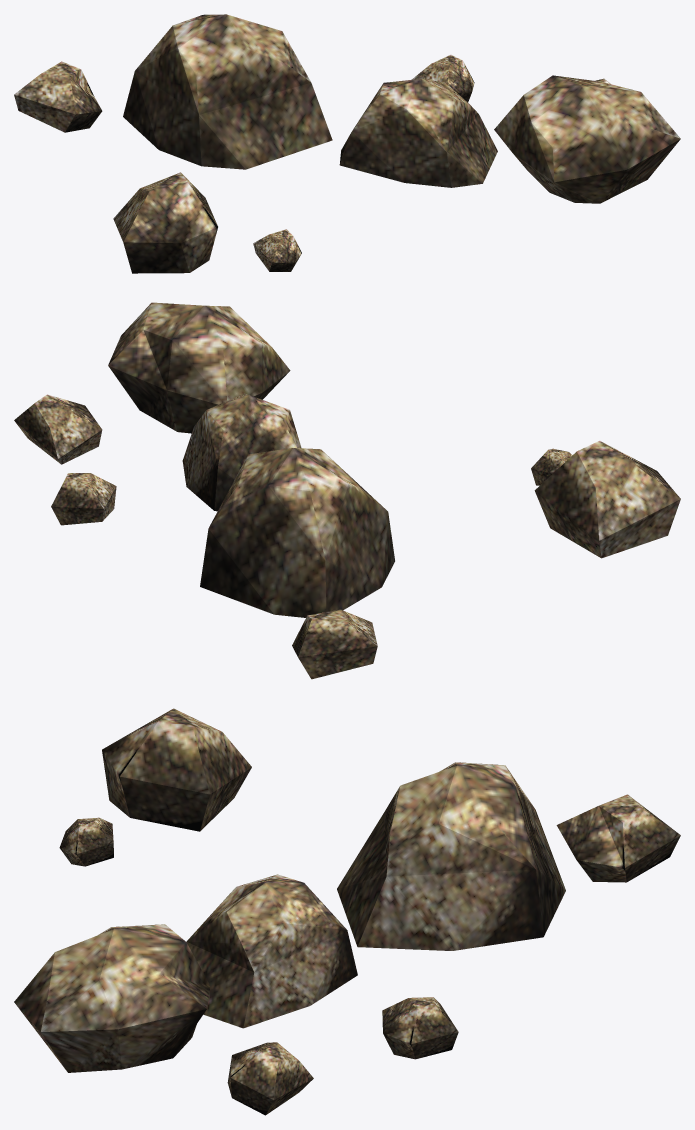
File: rock_015.dae
The picture shows the model from 3 angles, top to bottom: view 1: azimuth 30°, elevation 25°; view 2: azimuth 150°, elevation 25°; view 3: azimuth 270°, elevation 25°; orthographic projection. The views are drawn at different scales.
Parts seen in each view (by area): view 1: Mesh_Object; view 2: Mesh_Object; view 3: Mesh_Object.
Boxes of the visible parts, bbox=[...] form: Mesh_Object: bbox=[14, 14, 680, 273]; Mesh_Object: bbox=[14, 302, 680, 679]; Mesh_Object: bbox=[14, 708, 680, 1115].
Bounding box in the file's own units: 1.9 × 0.4368 × 1.58.
